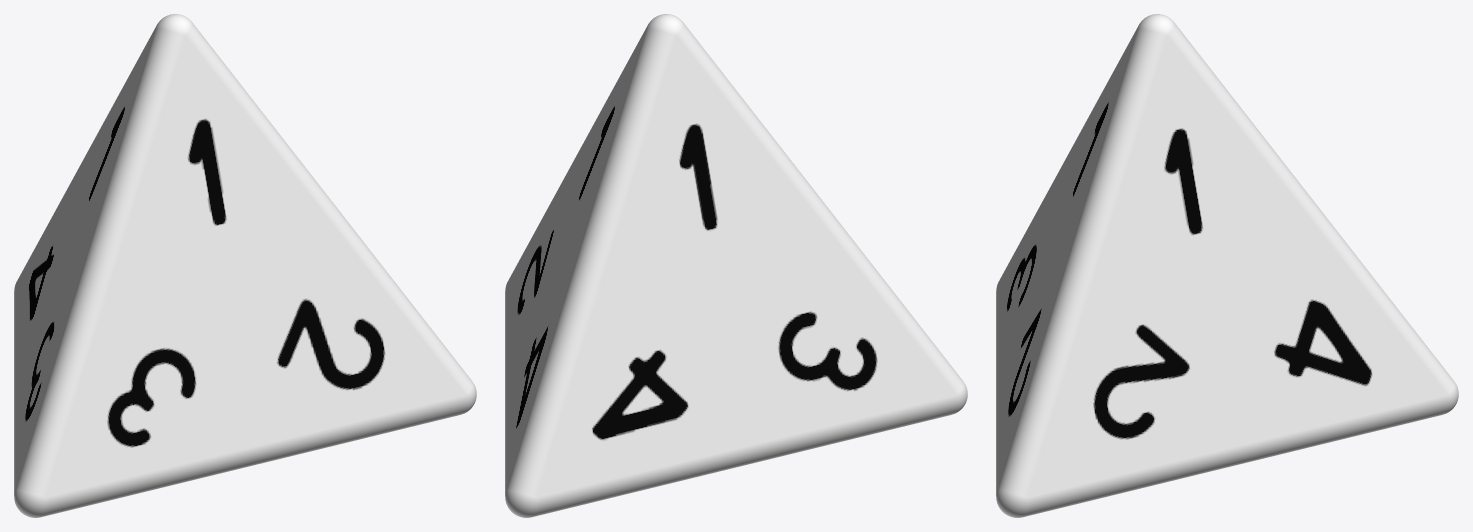
3 renders of one model, left to right at view 1: azimuth 30°, elevation 25°; view 2: azimuth 150°, elevation 25°; view 3: azimuth 270°, elevation 25°, orthographic.
Parts seen in each view (by area): view 1: Regular D4; view 2: Regular D4; view 3: Regular D4.
Boxes of the visible parts, <box> form: Regular D4: <box>14,14,476,517</box>; Regular D4: <box>505,14,967,517</box>; Regular D4: <box>996,14,1458,517</box>.
Size of the model in its own units: 1.55 by 1.29 by 1.36.
Materials: 1 (1 with a texture image).
